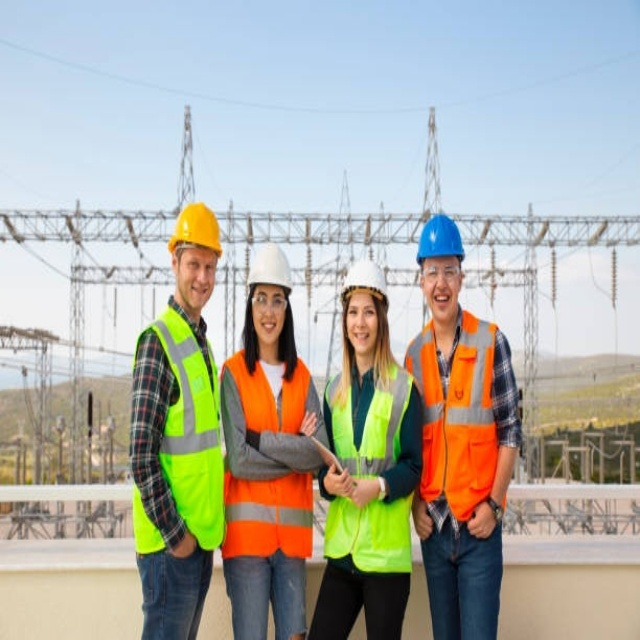Gafas: (420, 262, 464, 287), (250, 292, 290, 318)
Sin_gafas: (345, 298, 379, 320), (182, 254, 216, 275)
Sin_guantes: (464, 499, 496, 544), (323, 462, 356, 500), (413, 495, 436, 538), (170, 527, 198, 558), (298, 408, 318, 438)
Sin_mascara: (430, 287, 451, 317), (348, 329, 374, 350), (187, 279, 206, 303), (256, 317, 274, 340)
